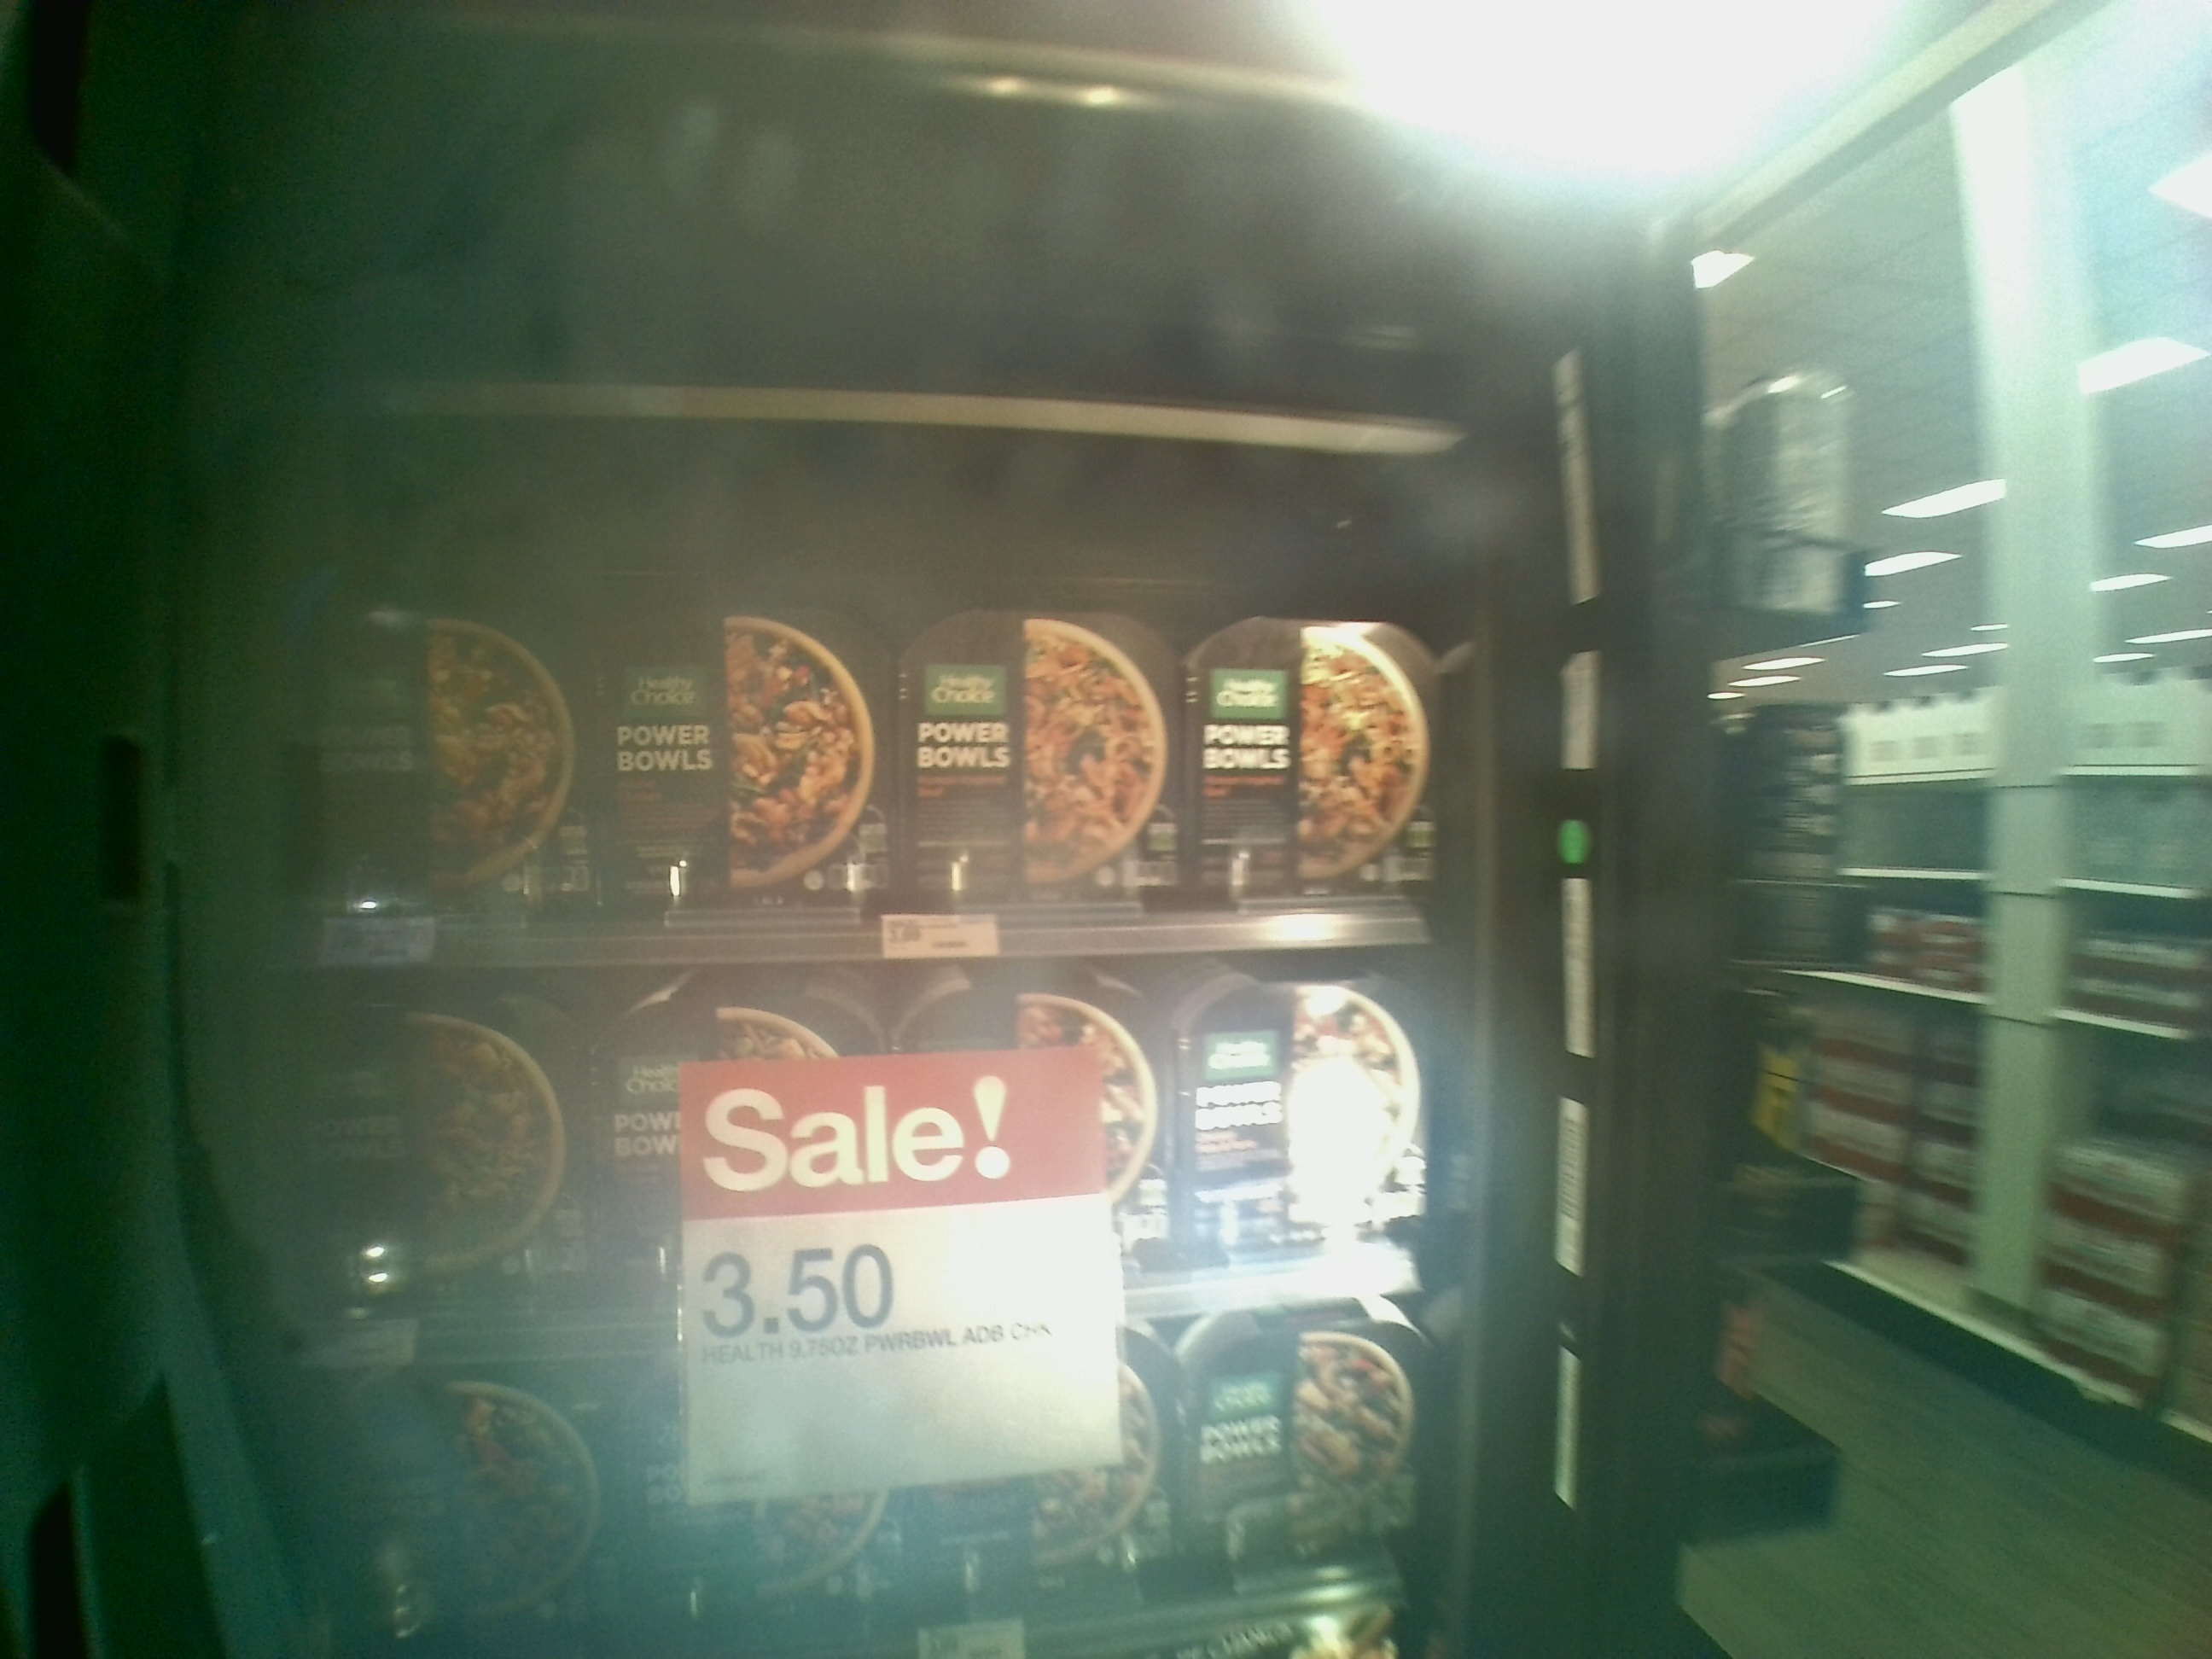shelf: (286, 392, 1435, 958), (282, 948, 1435, 1354)
